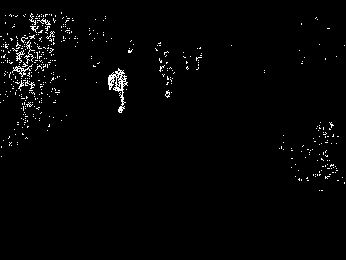person: (108, 68, 129, 115), (159, 50, 175, 99)
